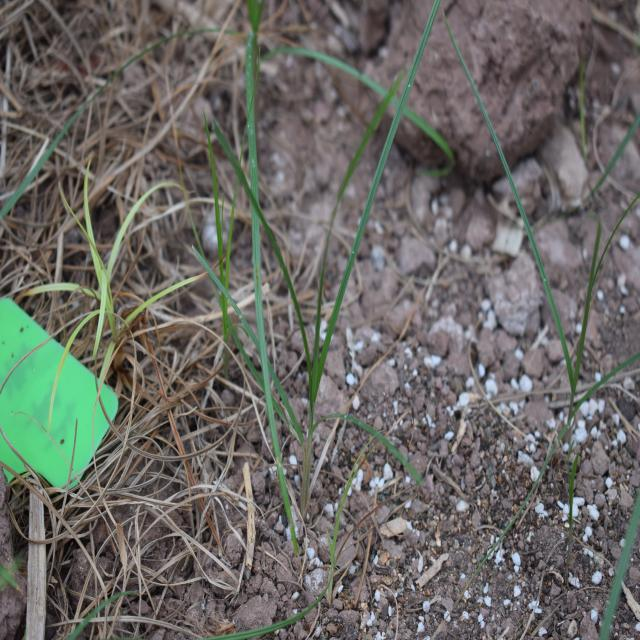sedge: (172, 36, 442, 525)
